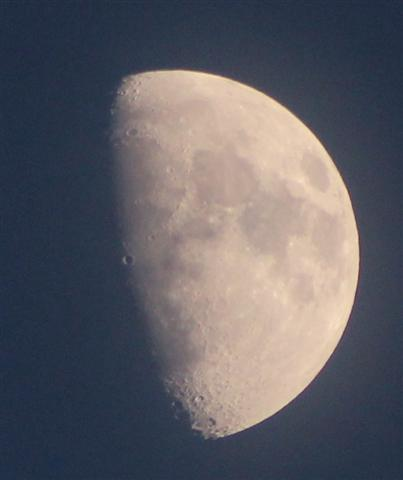crater: (292, 144, 334, 202), (116, 247, 146, 279), (191, 384, 219, 409), (280, 233, 301, 256), (157, 157, 179, 177), (181, 124, 205, 142), (124, 122, 143, 143), (170, 111, 196, 122)
